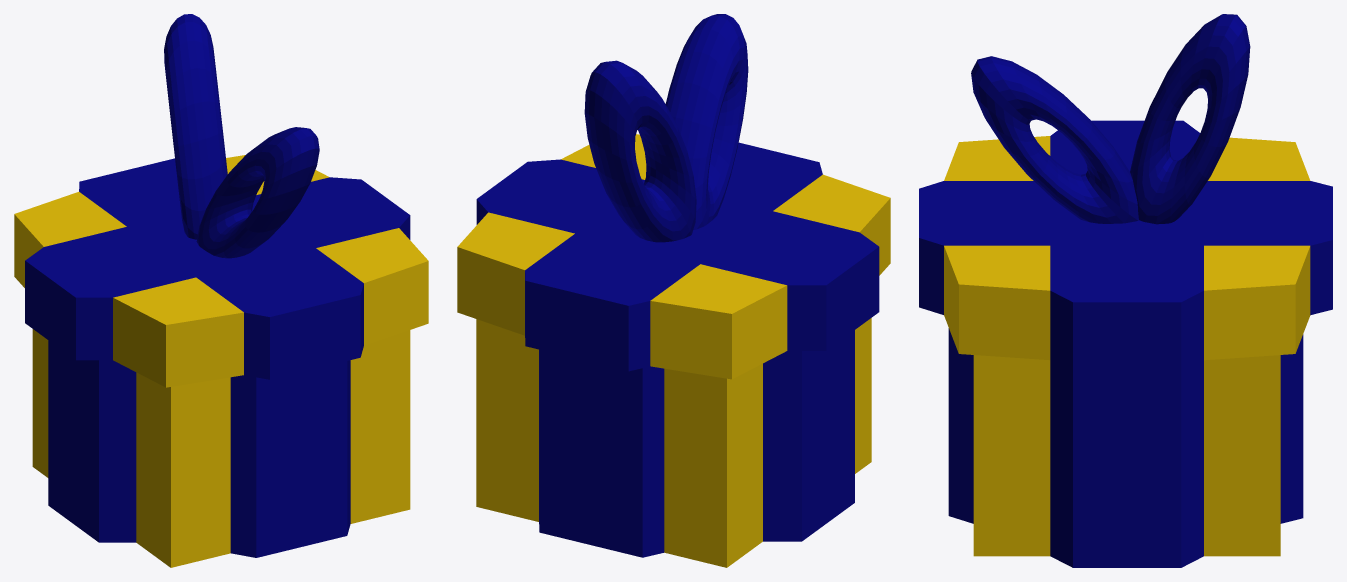
File: cadeau_3.fbx
3 renders of one model, left to right at view 1: azimuth 30°, elevation 25°; view 2: azimuth 150°, elevation 25°; view 3: azimuth 270°, elevation 25°, orthographic. The views are drawn at different scales.
Visible parts, largest first — view 1: pCube7; view 2: pCube7; view 3: pCube7.
Boxes of the visible parts, x1=… form: pCube7: x1=14, y1=14, x2=428, y2=567; pCube7: x1=457, y1=14, x2=890, y2=567; pCube7: x1=919, y1=14, x2=1332, y2=567.
Size of the model in its own units: 4.94 by 6.12 by 4.76.
